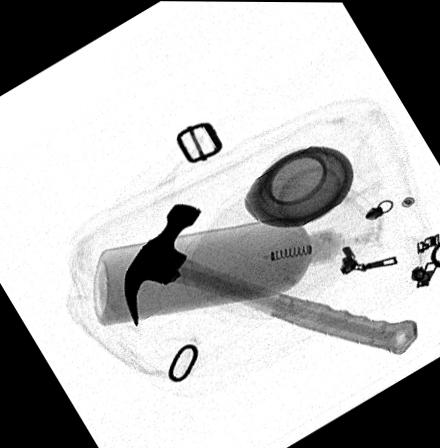Hammer: (122, 202, 417, 355)
